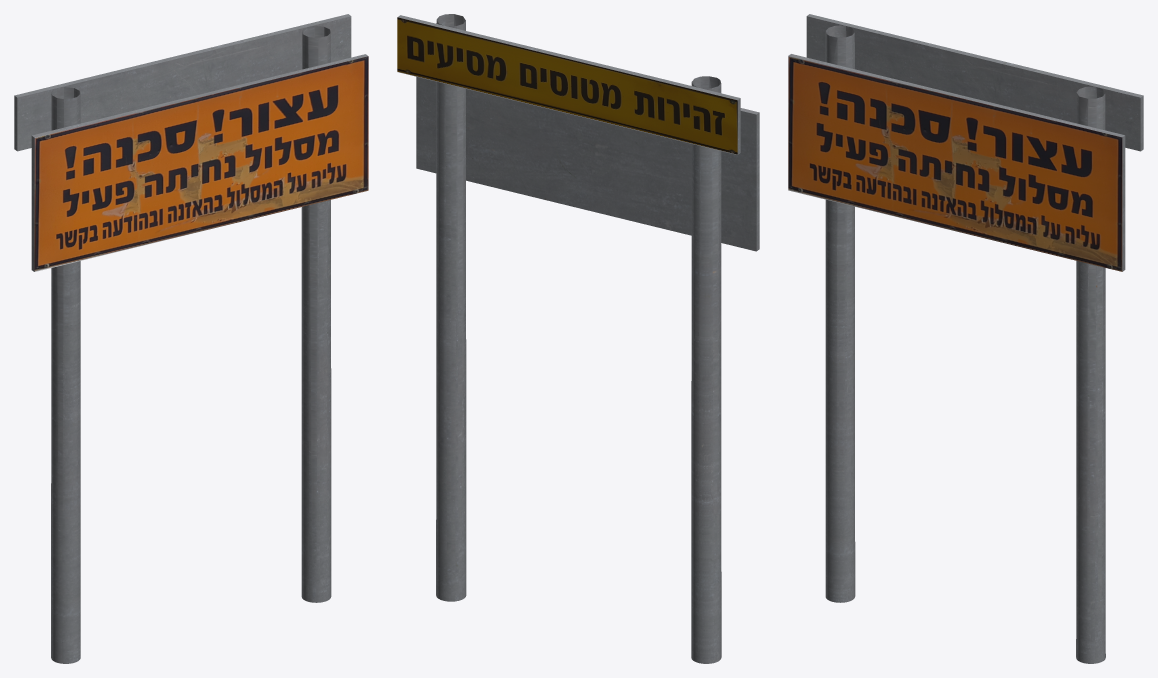
Rendered from KibuiOrangeAtzorShelet_LOD1.gltf.
3 views of the same model, side by side, from view 1: azimuth 30°, elevation 25°; view 2: azimuth 150°, elevation 25°; view 3: azimuth 330°, elevation 25° (orthographic).
Visible parts, largest first — view 1: node5, node4; view 2: node4, node6; view 3: node5, node4.
Boxes of the visible parts, x1,y1,x2,y2 form: node5: (34,56,368,271); node4: (14,14,367,663); node4: (398,14,759,663); node6: (397,17,737,154); node5: (788,56,1122,271); node4: (788,14,1143,663).
Bounding box in the file's own units: 1.3 × 2.1 × 0.14.
